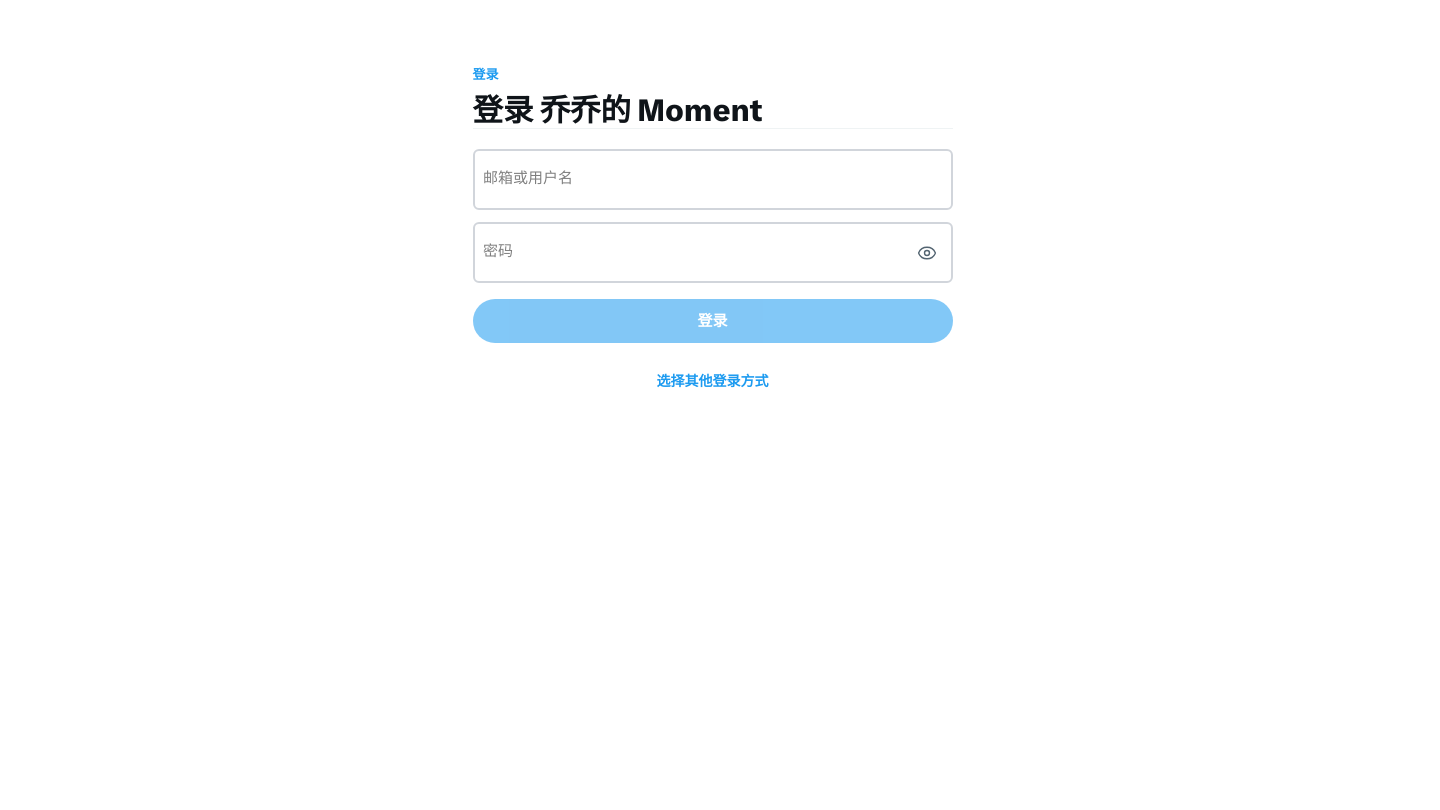
Scenario: owner login names who is signing in › sends an account carrying nothing to its provider instead of blaming the password
Step 1. Type "someone" into the field labelled "邮箱或用户名" → (712, 180), box [474,152,950,208]
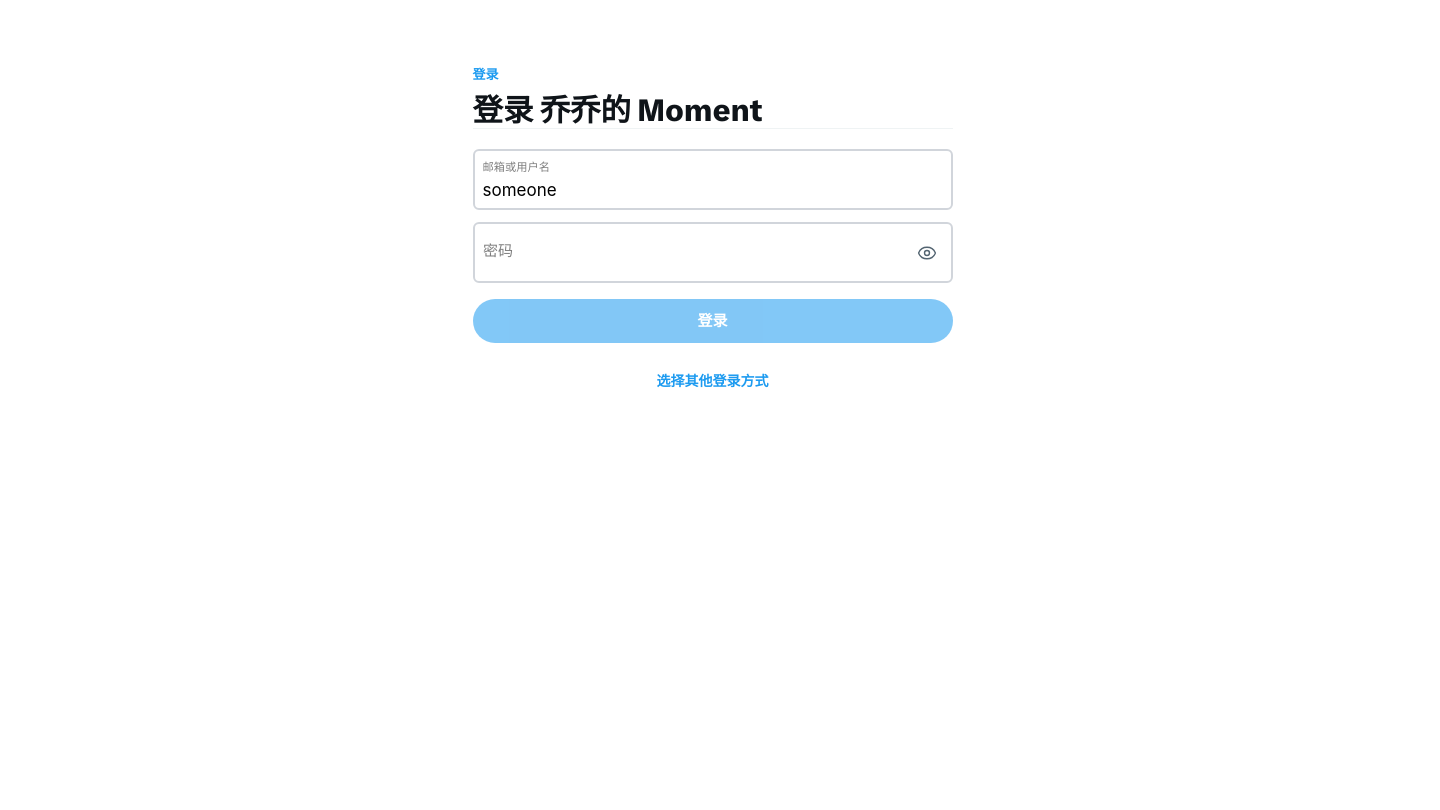
Step 2. Type "hunter2" into the password field labelled "密码" → (712, 253), box [474,224,950,281]
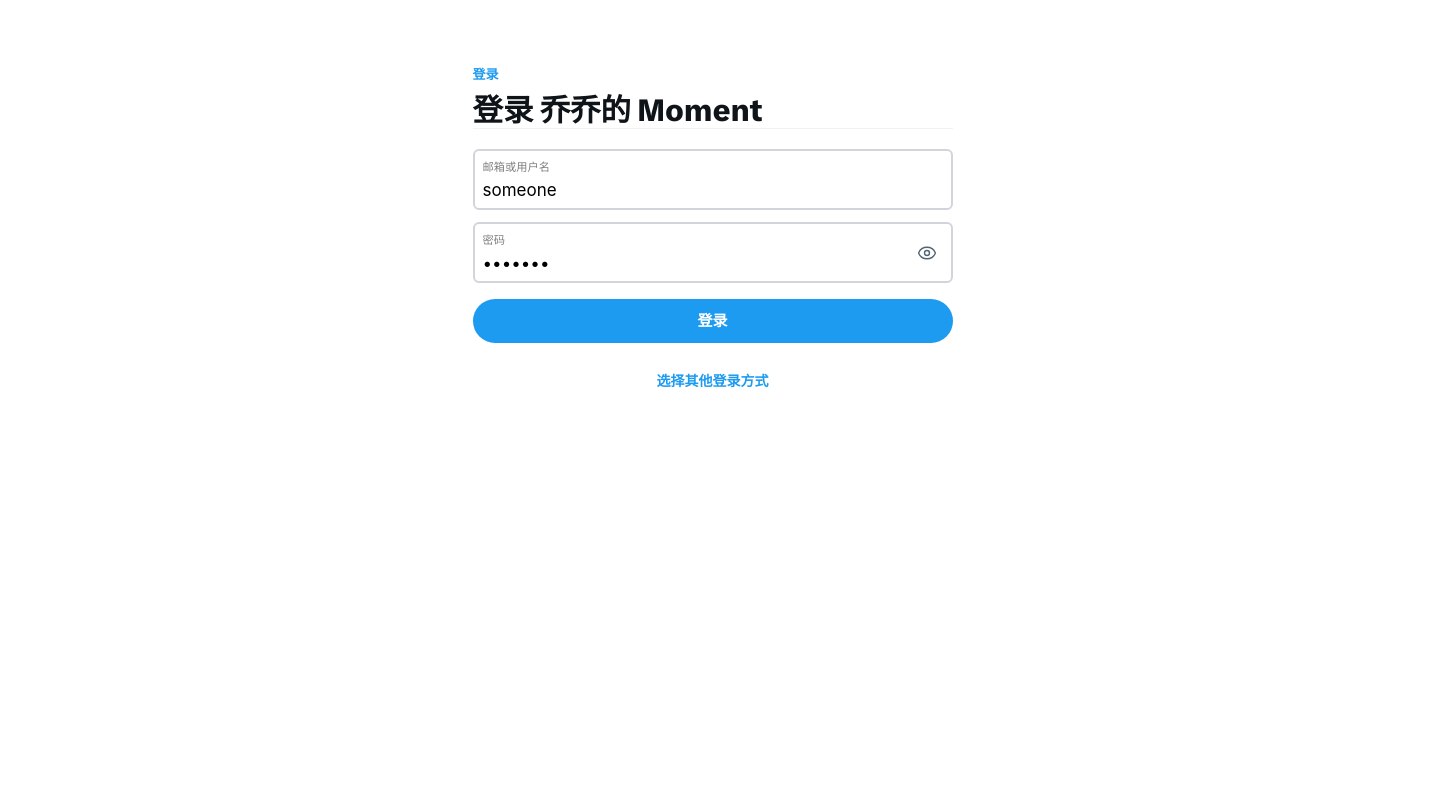
Step 3. Click the button "登录" → (712, 321), box [472,299,952,343]
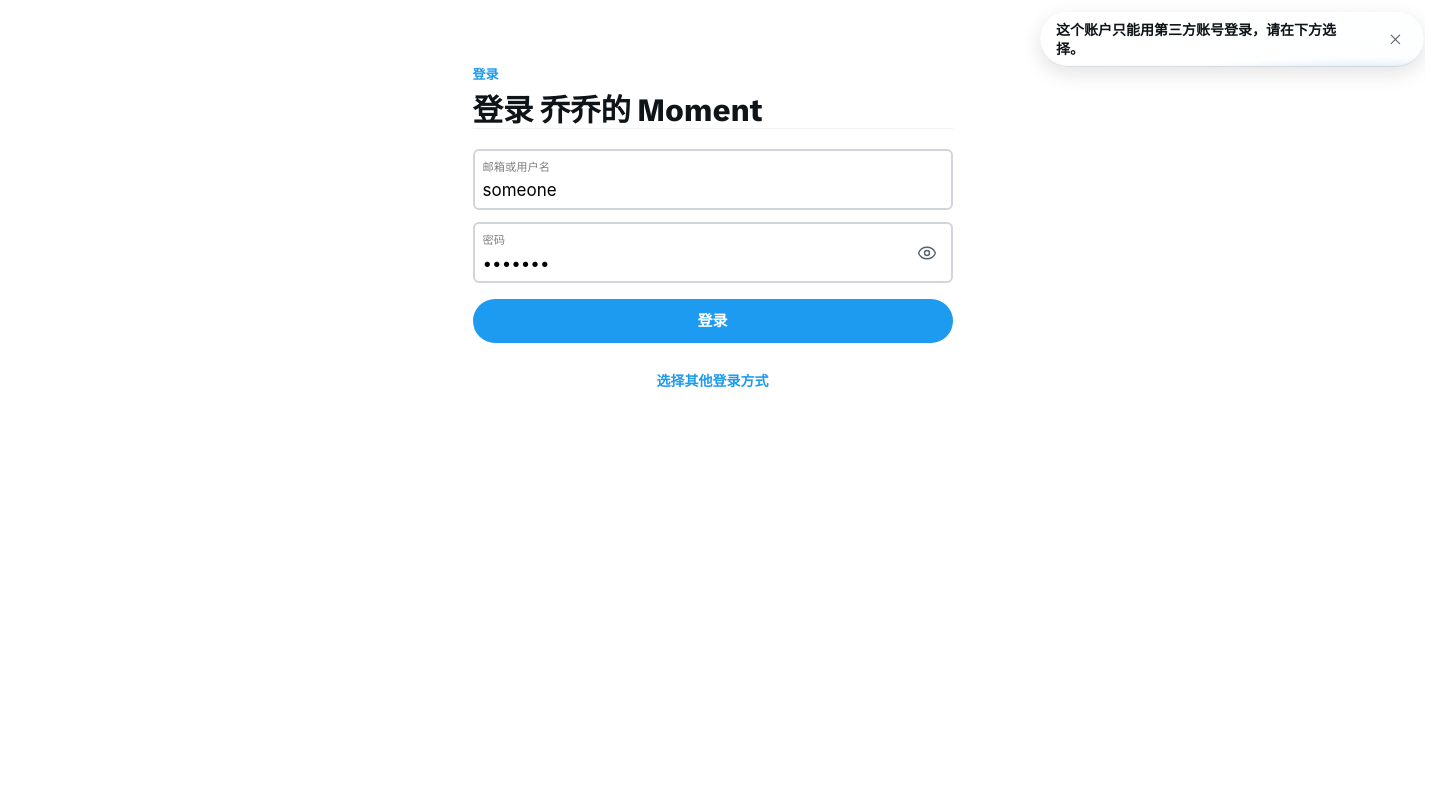
Check: the dialog is shown, box [1040,12,1424,67]
